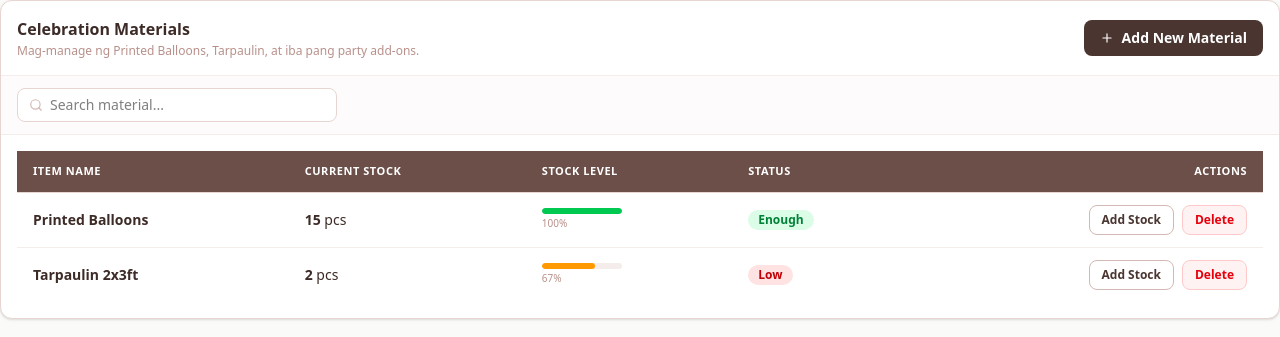
CelebrationTab Component › should display the empty-state message when a search query matches zero materials
This screenshot has width=1280, height=337.
Type "Confetti Cannon" into the field with placeholder "Search material...". click: (177, 105)
box: [17,88,337,122]
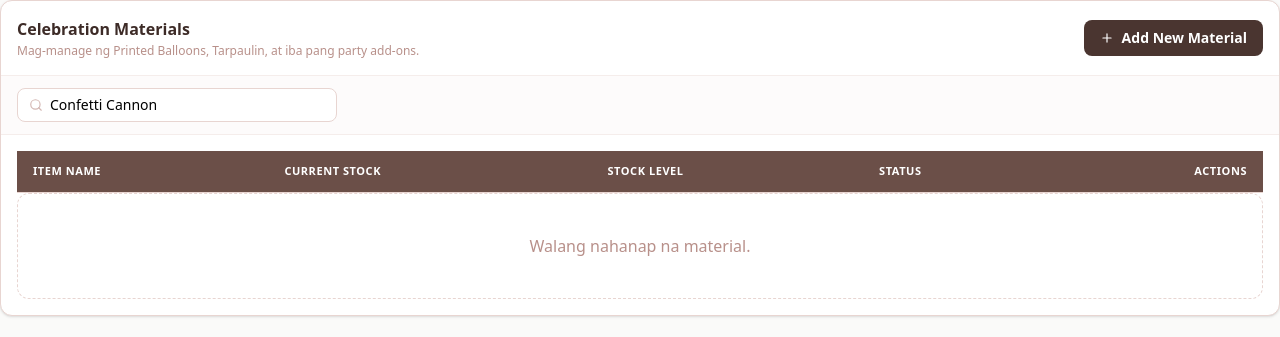
Now the text "Walang nahanap na material." is shown, box [17,192,1263,298]
